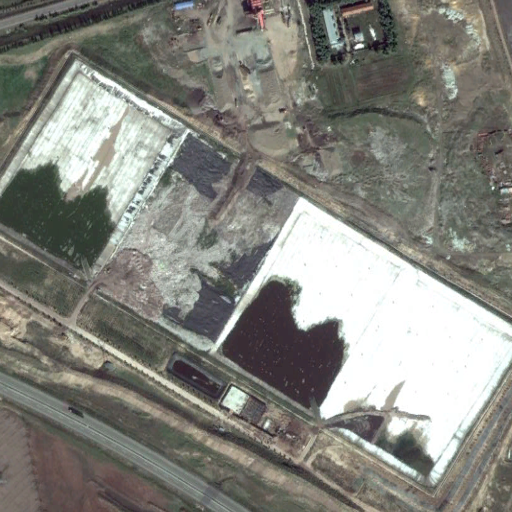lf: (96, 130, 302, 377)
